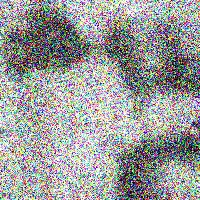patches: (3, 8, 91, 73), (117, 132, 200, 198), (101, 22, 154, 102), (151, 20, 200, 99)
